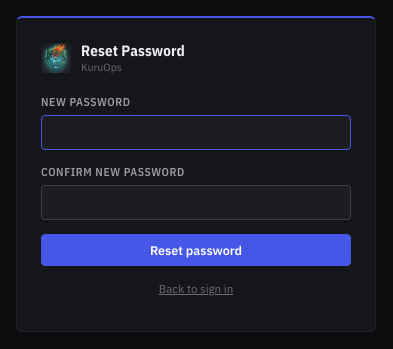
Test: ResetPasswordPage › submits the token and new password, then shows the done message
The image size is (393, 349).
Type "NewPassword123!" into the password field labelled "New password". click: {"x": 196, "y": 133}
box: [41,115,351,150]
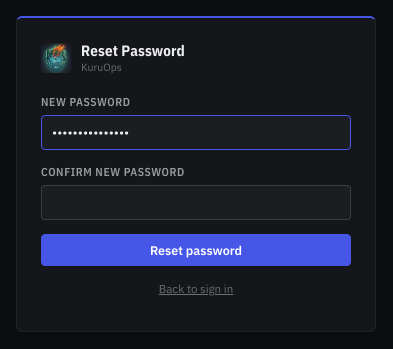
Type "NewPassword123!" into the password field labelled "Confirm new password". click: {"x": 196, "y": 203}
box: [41,185,351,220]
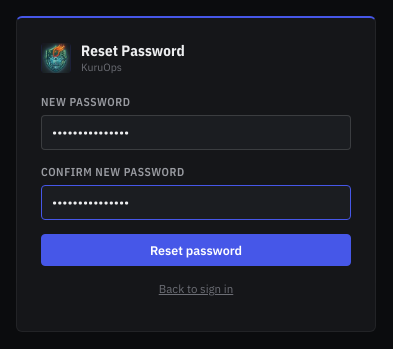
Click the button "Reset password". click: {"x": 196, "y": 250}
box: [41,234,351,266]
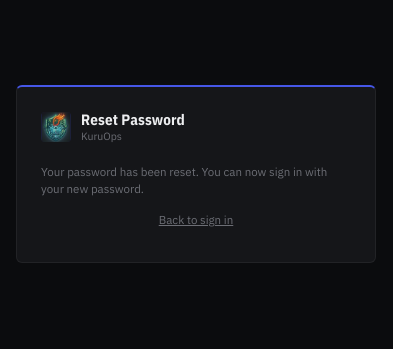
Expected: the text "password has been reset" is shown, [41,164,327,196]
